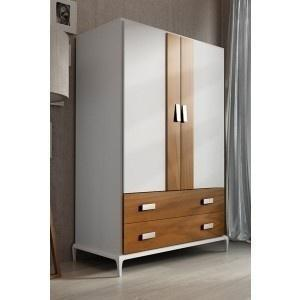Armario: (65, 17, 229, 279)
